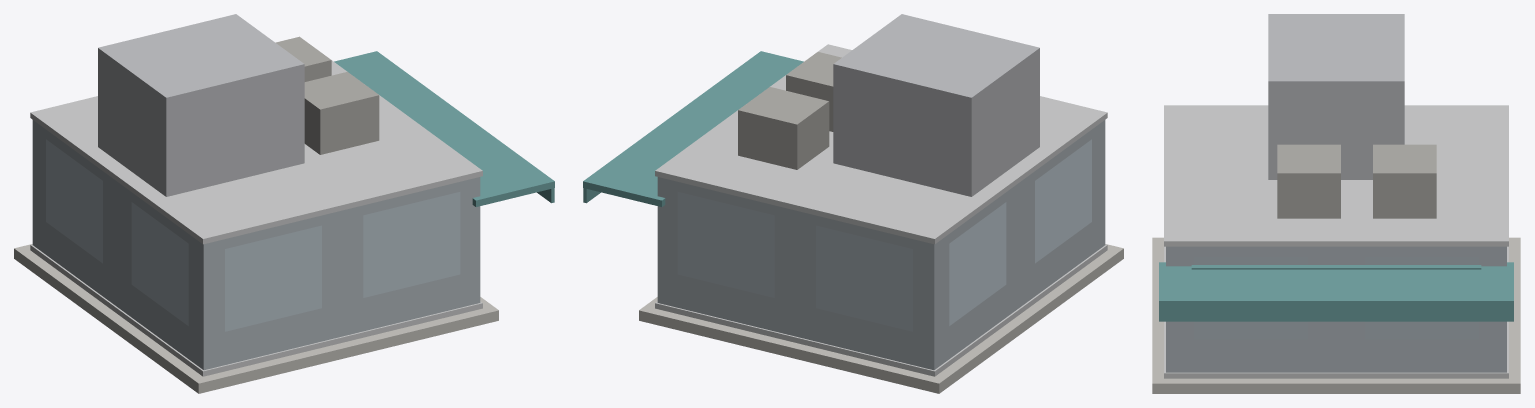
File: 11_retail_shops-01.glb
The picture shows the model from 3 angles, left to right: view 1: azimuth 30°, elevation 25°; view 2: azimuth 150°, elevation 25°; view 3: azimuth 270°, elevation 25°; orthographic projection.
Bounding box in the file's own units: 9.1 × 5.98 × 8.1.
